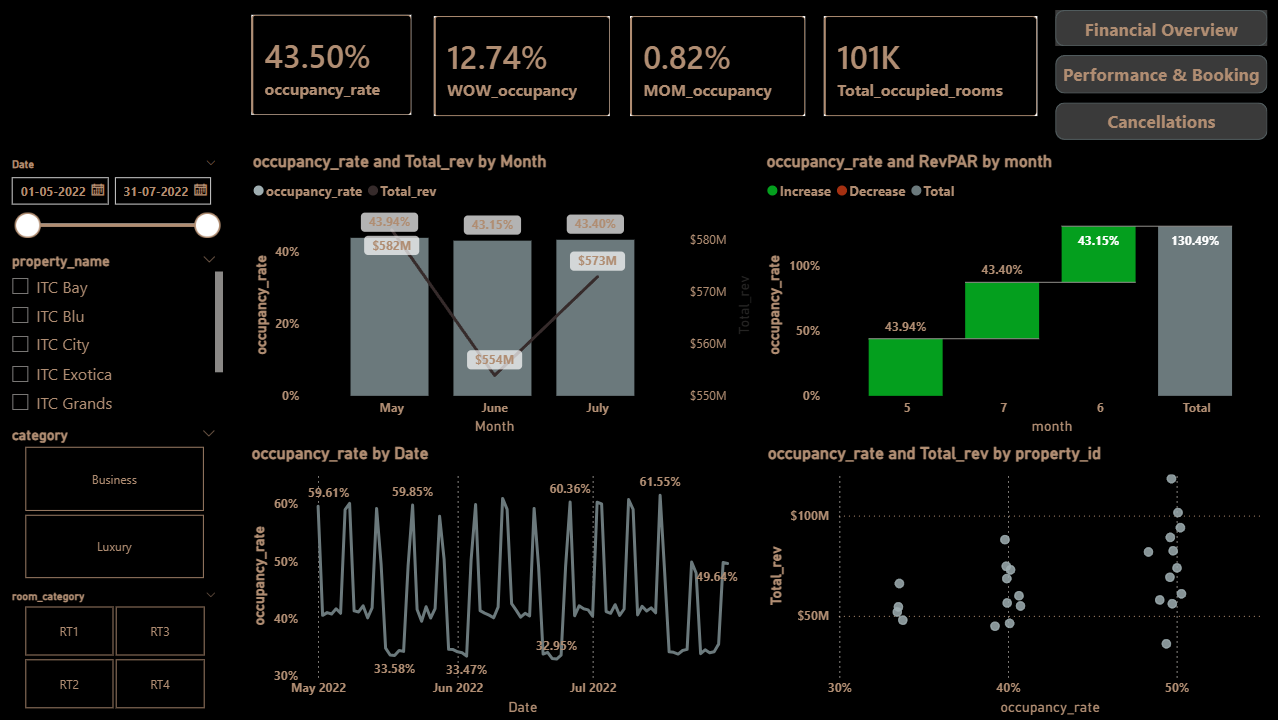

The dashboard page shown, as its layout file describes it:
{"tool":"powerbi","page":{"name":"Page 5","canvas":[1280,720],"ordinal":4},"visuals":[{"type":"lineStackedColumnComboChart","fields":{"Category":["Calender.Date.Variation.Date Hierarchy.Month"],"Y":["Z.occupancy_rate"],"Y2":["Z.Total_rev"]},"box":[248.5,150.8,509.1,288.3],"z":0},{"type":"waterfallChart","fields":{"Category":["Calender.month"],"Y":["Z.occupancy_rate"]},"box":[762.5,150.8,517.6,288.3],"z":1000},{"type":"cardVisual","fields":{"Data":["Z.occupancy_rate"]},"box":[247.3,9.7,170.1,111],"z":2000},{"type":"cardVisual","fields":{"Data":["Z.WOW_occupancy"]},"box":[429.5,10.9,187,111],"z":3000},{"type":"cardVisual","fields":{"Data":["Z.MOM_occupancy"]},"box":[626.1,10.9,185.8,111],"z":4000},{"type":"cardVisual","fields":{"Data":["Z.Total_occupied_rooms"]},"box":[820.4,10.9,223.2,111],"z":5000},{"type":"shape","box":[1055.6,9.7,212.3,36.2],"z":6000},{"type":"shape","box":[1055.6,55.5,212.3,38.6],"z":7000},{"type":"shape","box":[1055.6,102.5,212.3,37.4],"z":8000},{"type":"lineChart","fields":{"Category":["Calender.Date"],"Y":["Z.occupancy_rate"]},"box":[247.3,442.8,510.3,277.5],"z":9000},{"type":"slicer","fields":{"Values":["Calender.Day_type"]},"box":[820.4,585.1,195.4,65.1],"z":10000},{"type":"slicer","fields":{"Values":["Calender.Date"]},"box":[0,152,229.2,95.3],"z":11000},{"type":"slicer","fields":{"Values":["hotels.property_name"]},"box":[0,247.3,229.2,172.5],"z":12000},{"type":"slicer","fields":{"Values":["hotels.category"]},"box":[0,420.7,228.7,163.9],"z":13000},{"type":"slicer","fields":{"Values":["occupancy.room_category"]},"box":[0,585.1,229.2,130.3],"z":14000},{"type":"scatterChart","fields":{"Category":["hotels.property_id"],"X":["Z.occupancy_rate"],"Y":["Z.Total_rev"]},"box":[763.7,442.8,516.4,277.5],"z":15000}]}

Visuals, with their boxes in screenshot pixels (x1, y1, x2, y2), scaled from the page's 1280x720 canvas onto the 1278x720 screenshot:
lineStackedColumnComboChart - Calender.Date.Variation.Date Hierarchy.Month x Z.occupancy_rate: left=248, top=151, right=756, bottom=439
waterfallChart - Calender.month x Z.occupancy_rate: left=761, top=151, right=1277, bottom=439
cardVisual - Z.occupancy_rate: left=247, top=10, right=417, bottom=121
cardVisual - Z.WOW_occupancy: left=429, top=11, right=616, bottom=122
cardVisual - Z.MOM_occupancy: left=625, top=11, right=811, bottom=122
cardVisual - Z.Total_occupied_rooms: left=819, top=11, right=1042, bottom=122
shape: left=1054, top=10, right=1266, bottom=46
shape: left=1054, top=56, right=1266, bottom=94
shape: left=1054, top=102, right=1266, bottom=140
lineChart - Calender.Date x Z.occupancy_rate: left=247, top=443, right=756, bottom=719
slicer - Calender.Day_type: left=819, top=585, right=1014, bottom=650
slicer - Calender.Date: left=0, top=152, right=229, bottom=247
slicer - hotels.property_name: left=0, top=247, right=229, bottom=420
slicer - hotels.category: left=0, top=421, right=228, bottom=585
slicer - occupancy.room_category: left=0, top=585, right=229, bottom=715
scatterChart - hotels.property_id x Z.occupancy_rate: left=763, top=443, right=1277, bottom=719
